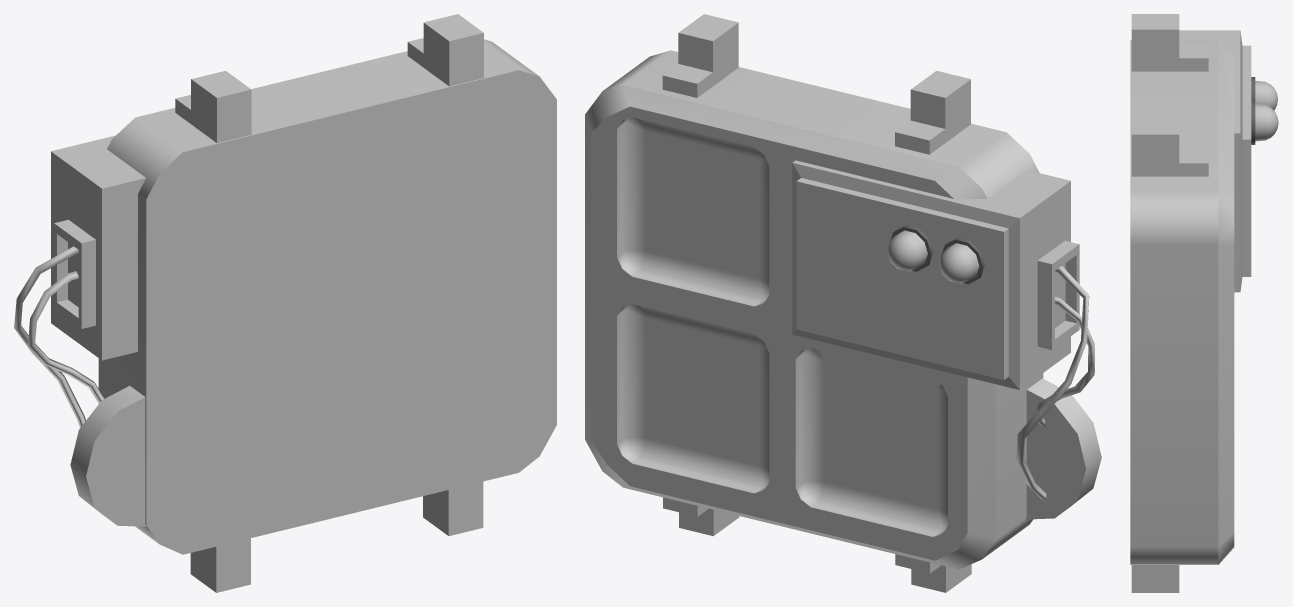
File: MMDetectorImpact.fbx
The picture shows the model from 3 angles, left to right: view 1: azimuth 30°, elevation 25°; view 2: azimuth 150°, elevation 25°; view 3: azimuth 270°, elevation 25°; orthographic projection. The views are drawn at different scales.
Visible parts, largest first — view 1: Plates, Sensor, Wire_Connector, Attachment3, Attachment2, Attachment4, Attachment1, GreenWire, RedWire; view 2: Plates, Sensor, Wire_Connector, Attachment2, Attachment3, GreenWire, Attachment1, Attachment4, RedLightBulb, GreenLightGlow, RedWire; view 3: Plates, Sensor, Attachment3, Attachment2, Attachment4, RedLightBulb, GreenLightGlow, RedLight.
Part boxes in pixels (x1=…): Plates: x1=98, y1=39, x2=556, y2=554; Sensor: x1=51, y1=135, x2=145, y2=360; Wire_Connector: x1=70, y1=385, x2=146, y2=526; Attachment3: x1=175, y1=70, x2=251, y2=142; Attachment2: x1=407, y1=14, x2=483, y2=86; Attachment4: x1=423, y1=481, x2=483, y2=535; Attachment1: x1=190, y1=538, x2=250, y2=592; GreenWire: x1=14, y1=246, x2=85, y2=427; RedWire: x1=28, y1=271, x2=104, y2=403; Plates: x1=585, y1=50, x2=1043, y2=569; Sensor: x1=792, y1=160, x2=1079, y2=389; Wire_Connector: x1=1025, y1=378, x2=1101, y2=519; Attachment2: x1=662, y1=14, x2=738, y2=97; Attachment3: x1=895, y1=70, x2=970, y2=154; GreenWire: x1=1016, y1=266, x2=1089, y2=502; Attachment1: x1=895, y1=554, x2=971, y2=592; Attachment4: x1=663, y1=497, x2=739, y2=536; RedLightBulb: x1=887, y1=230, x2=927, y2=271; GreenLightGlow: x1=939, y1=243, x2=979, y2=283; RedWire: x1=1036, y1=297, x2=1094, y2=426; Plates: x1=1130, y1=40, x2=1234, y2=564; Sensor: x1=1179, y1=30, x2=1251, y2=292; Attachment3: x1=1131, y1=14, x2=1208, y2=71; Attachment2: x1=1131, y1=119, x2=1208, y2=176; Attachment4: x1=1131, y1=565, x2=1179, y2=592; RedLightBulb: x1=1255, y1=104, x2=1278, y2=141; GreenLightGlow: x1=1255, y1=81, x2=1277, y2=110; RedLight: x1=1251, y1=100, x2=1255, y2=144.
Size of the model in its own units: 0.2563 by 0.2436 by 0.0714.
